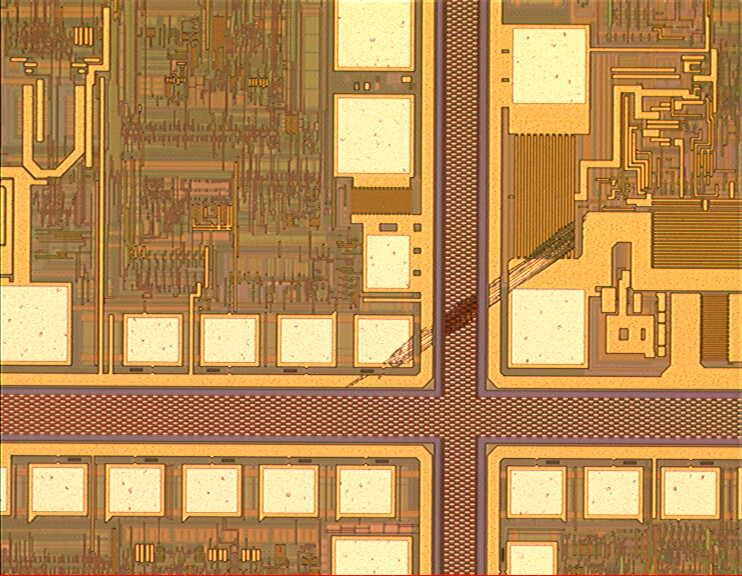BLOCK ETCH: (329, 207, 610, 403)
